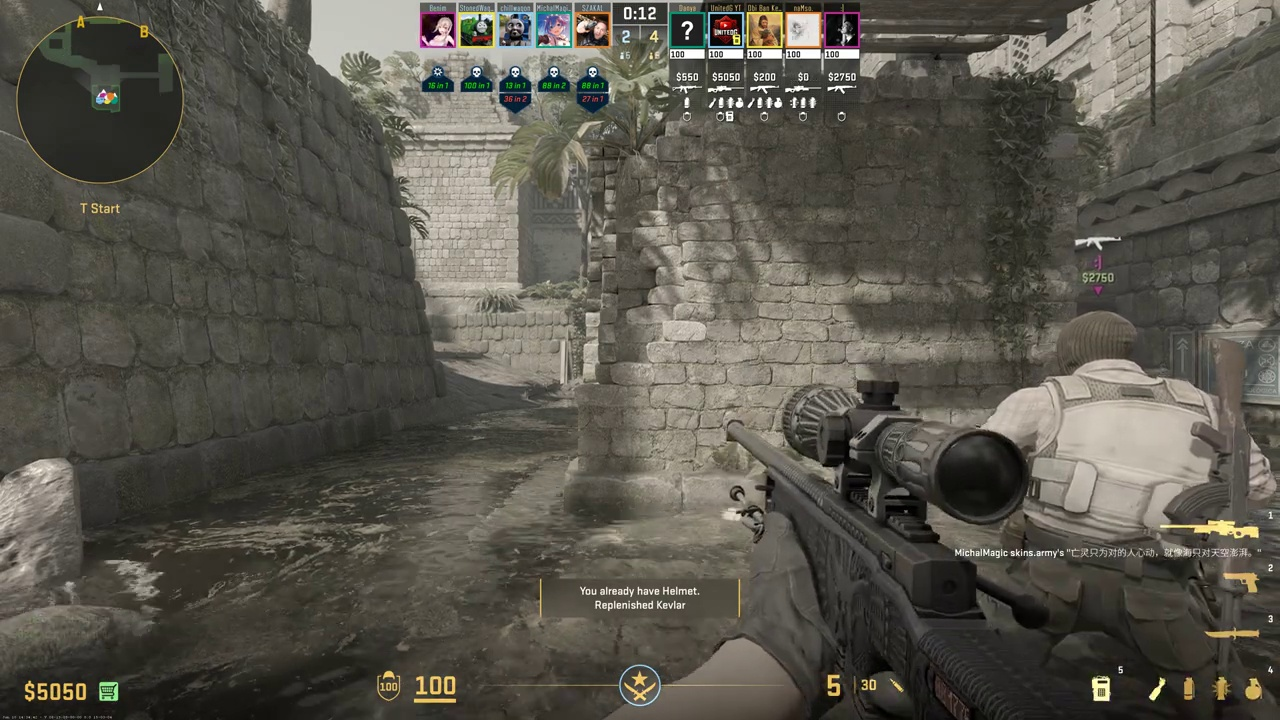Terrorist: (1005, 311, 1228, 708)
